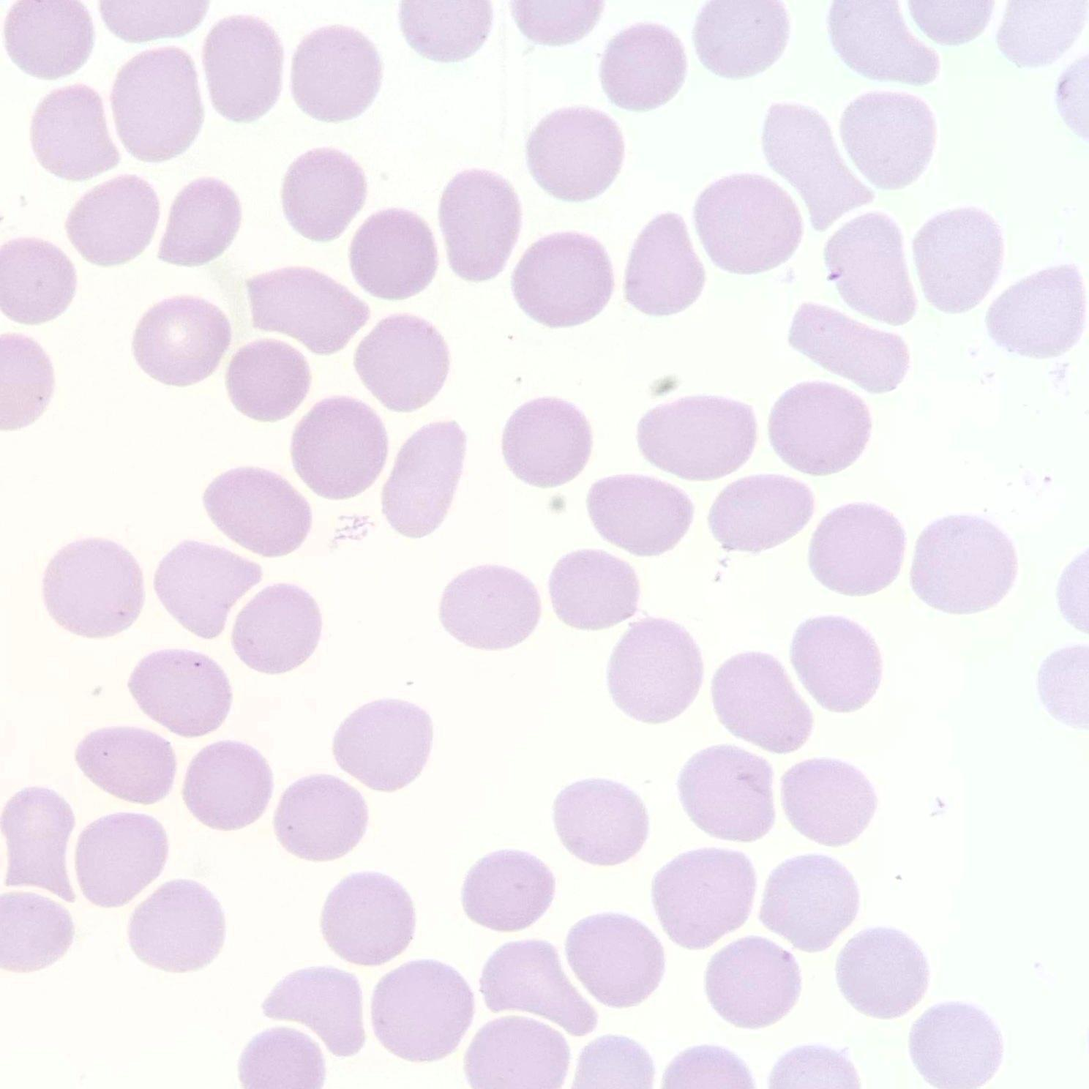Uninfected: (763, 101, 872, 226), (244, 266, 369, 358), (787, 301, 910, 394), (910, 513, 1018, 615), (154, 539, 264, 639), (822, 212, 918, 326), (479, 937, 594, 1032), (694, 173, 802, 274), (112, 47, 207, 161), (368, 959, 473, 1062), (41, 536, 144, 640), (652, 847, 757, 948), (709, 649, 811, 752), (201, 465, 312, 559), (259, 965, 367, 1061), (637, 394, 754, 481), (912, 205, 1005, 314), (291, 395, 389, 498), (676, 744, 779, 842), (605, 618, 701, 723), (768, 381, 875, 475), (127, 878, 229, 976), (511, 231, 613, 328), (380, 422, 466, 536), (839, 90, 935, 192), (984, 261, 1086, 357), (762, 853, 861, 951), (790, 613, 884, 716), (332, 697, 433, 792), (127, 649, 233, 739), (131, 293, 233, 386), (807, 501, 906, 596), (438, 169, 525, 277), (319, 870, 416, 966), (355, 313, 450, 410), (74, 811, 171, 906), (564, 913, 662, 1007), (525, 108, 624, 201), (201, 15, 286, 123), (779, 755, 876, 848), (290, 24, 383, 121), (828, 1, 938, 83), (703, 936, 801, 1028), (2, 785, 80, 899), (66, 173, 160, 267), (585, 473, 690, 557), (31, 83, 119, 182), (624, 212, 706, 318), (349, 201, 442, 294), (438, 563, 539, 648), (281, 146, 370, 242), (708, 471, 812, 553), (500, 396, 591, 489), (231, 583, 322, 674), (552, 778, 647, 865), (181, 740, 272, 830), (836, 926, 927, 1016), (273, 773, 366, 860), (908, 1000, 1002, 1086), (75, 725, 176, 804), (462, 849, 558, 932), (599, 23, 688, 110), (693, 1, 791, 80), (463, 1015, 568, 1088), (159, 176, 243, 267), (548, 548, 637, 629), (0, 234, 77, 325), (225, 336, 310, 418), (4, 0, 92, 79), (0, 889, 75, 970)
